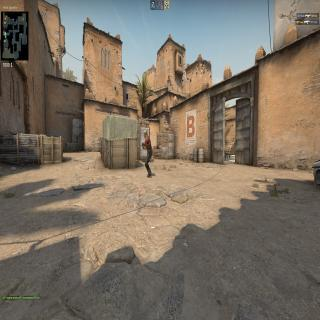T-Head: (143, 129, 148, 139)
